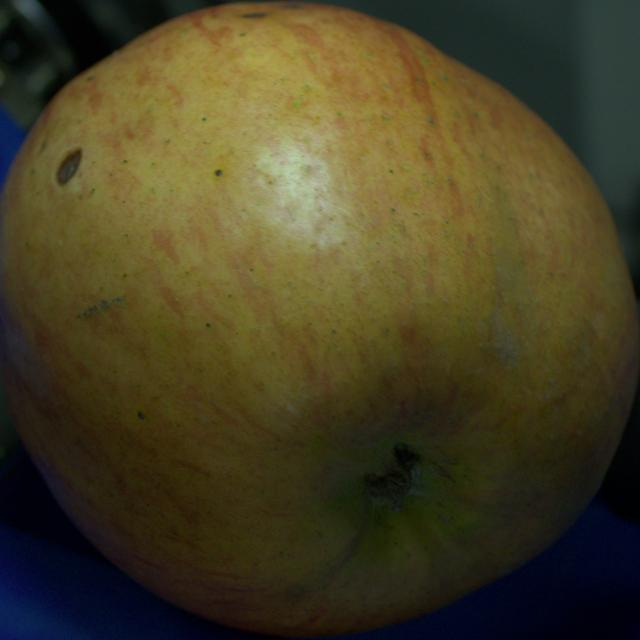apple: (0, 2, 639, 635)
pest: (57, 149, 81, 184), (243, 12, 267, 18), (283, 3, 298, 8)
